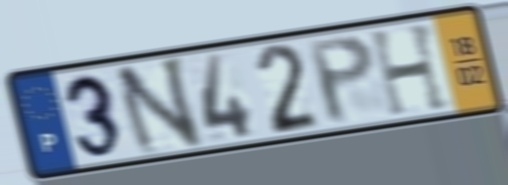2: (253, 42, 322, 139)
3: (63, 69, 134, 162)
4: (198, 50, 260, 142)
H: (366, 19, 453, 120)
N: (110, 52, 207, 161)
P: (303, 32, 377, 127)
